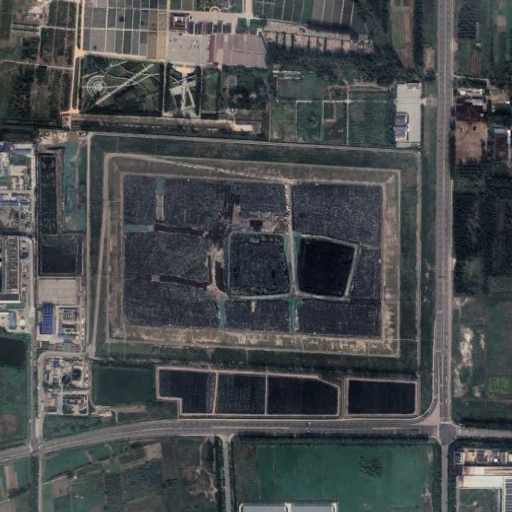lf: (89, 136, 403, 355)
